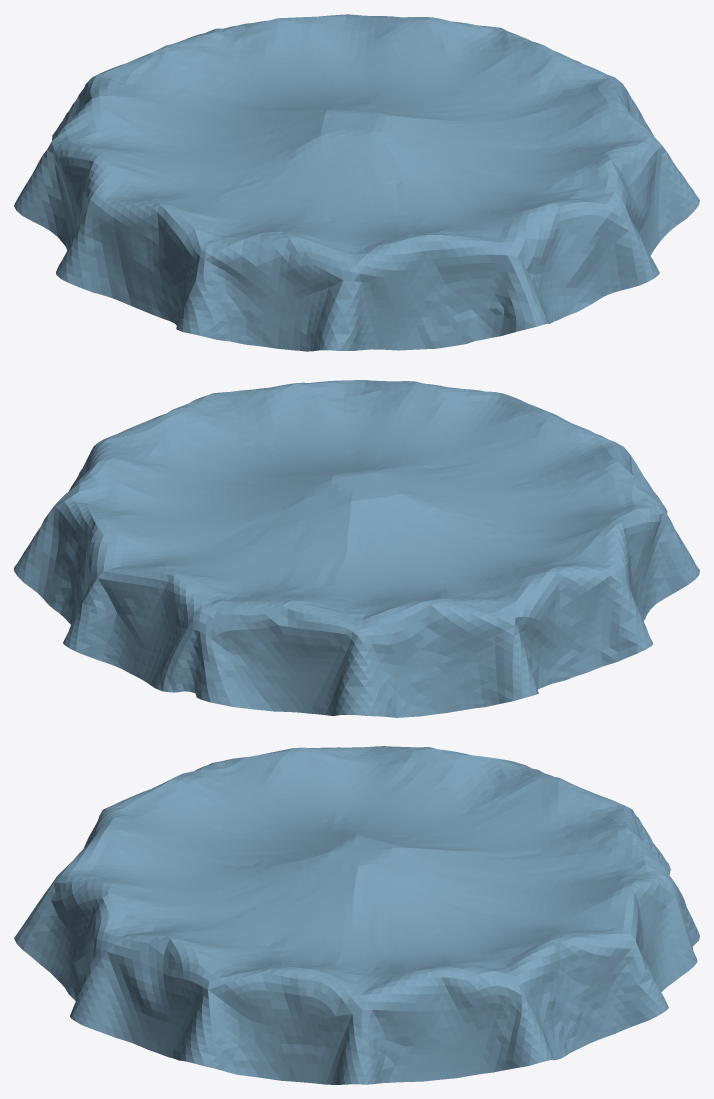
The model's file is level_2.glb.
The picture shows the model from 3 angles, top to bottom: view 1: azimuth 30°, elevation 25°; view 2: azimuth 150°, elevation 25°; view 3: azimuth 270°, elevation 25°; orthographic projection.
Visible parts, largest first — view 1: world; view 2: world; view 3: world.
Part boxes in pixels (left/top/right/bottom): world: left=14, top=14, right=699, bottom=351; world: left=14, top=380, right=699, bottom=717; world: left=14, top=746, right=699, bottom=1084.
Bounding box in the file's own units: 0.564 × 0.0975 × 0.5628.
